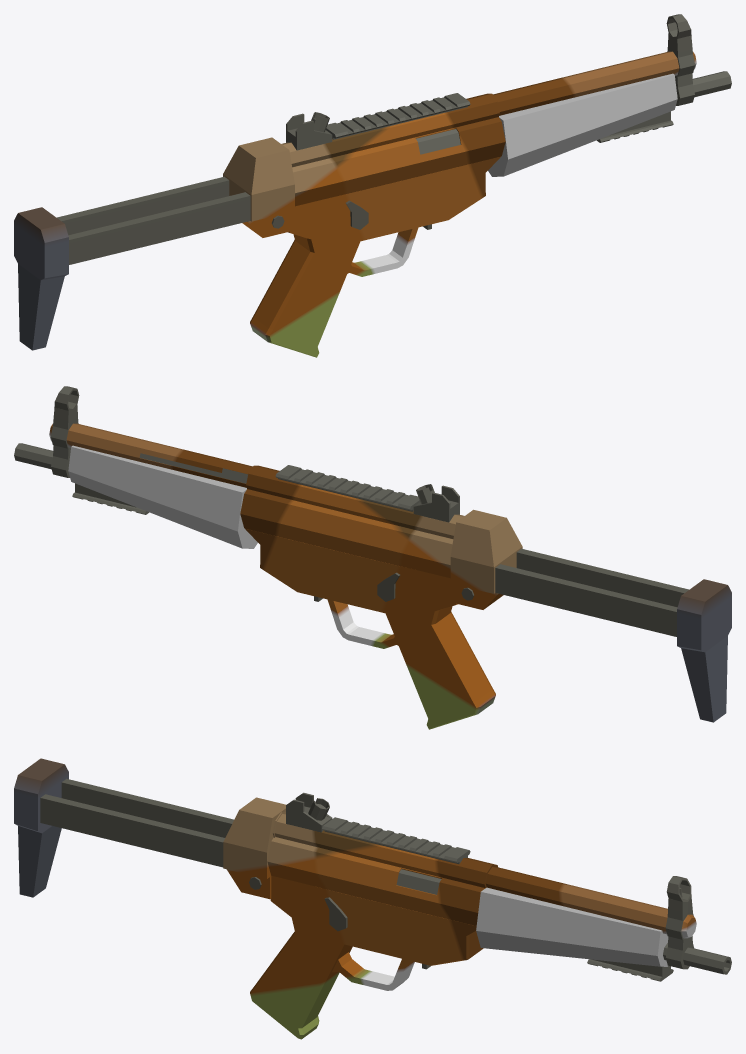
The model's file is SMG2_04.fbx.
The picture shows the model from 3 angles, top to bottom: view 1: azimuth 30°, elevation 25°; view 2: azimuth 150°, elevation 25°; view 3: azimuth 330°, elevation 25°; orthographic projection.
Parts seen in each view (by area): view 1: SMG2_04; view 2: SMG2_04; view 3: SMG2_04.
Boxes of the visible parts, x1,y1,x2,y2 form: SMG2_04: (14,14,731,357); SMG2_04: (14,386,731,729); SMG2_04: (14,758,731,1039).
Bounding box in the file's own units: 0.7164 × 0.2409 × 0.0566.
